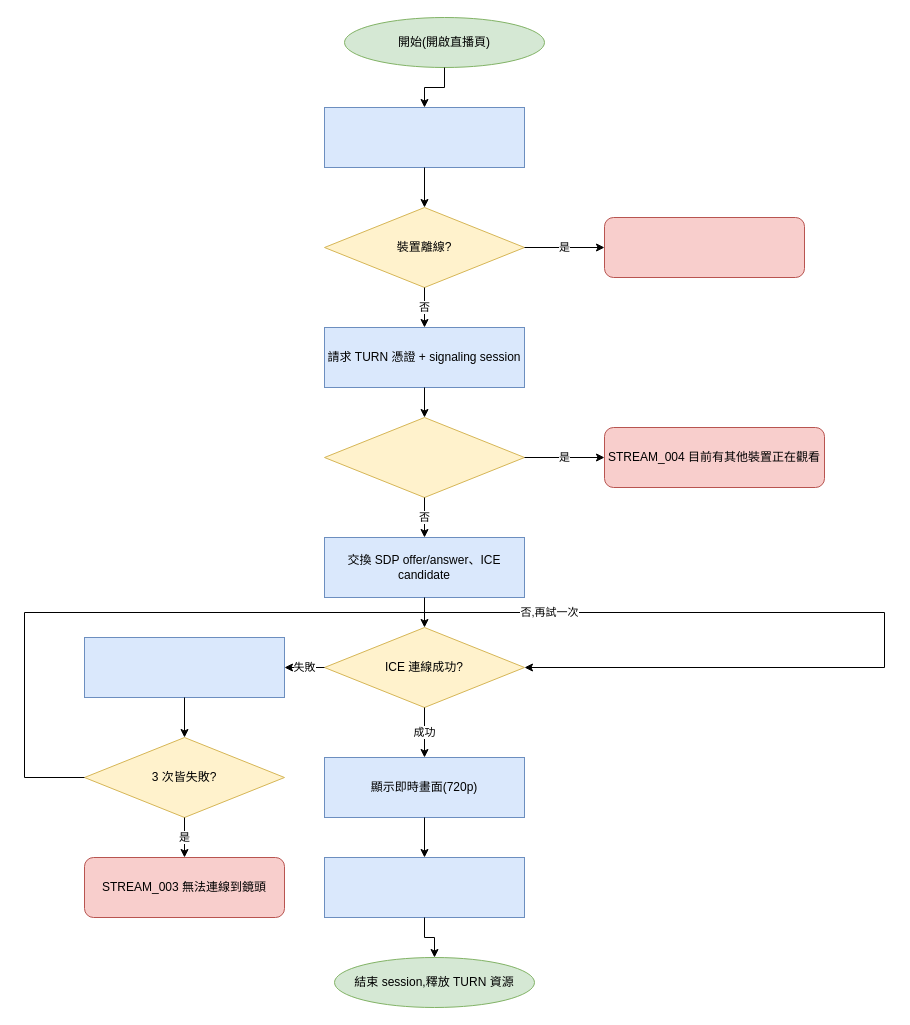
Some shapes in this 910 by 1025 pixel diagram are drawn without their labels. Each missing label, with the centre of its shape:
"STREAM_001 鏡頭目前離線" belongs at (704,247).
"使用者離開頁面" belongs at (424,887).
"是否已有其他觀看端?" belongs at (424,457).
"檢查裝置線上狀態" belongs at (424,137).
"重試(最多 3 次,2s/4s/8s)" belongs at (184,667).
